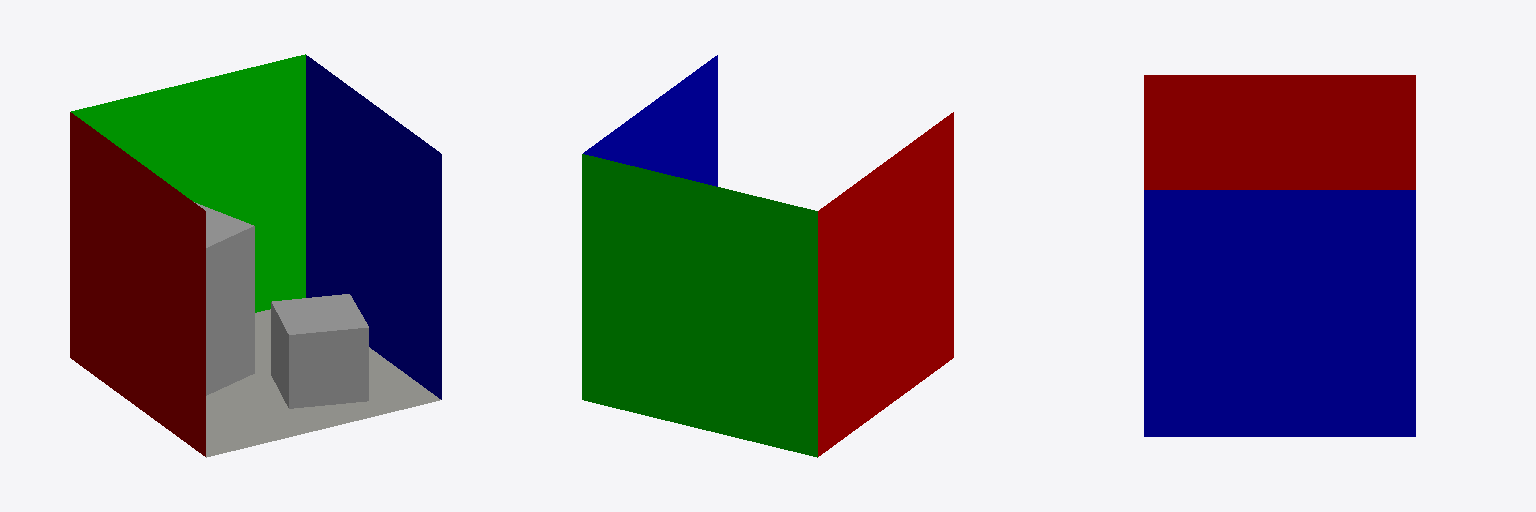
Rendered from CornellBox-Normal.obj.
The picture shows the model from 3 angles: view 1: azimuth 30°, elevation 25°; view 2: azimuth 150°, elevation 25°; view 3: azimuth 270°, elevation 25°; orthographic projection.
Visible parts, largest first — view 1: Enclosure_Enclosure_Cube.001, ShortBox_leftWall, TallBox_shortBox; view 2: Enclosure_Enclosure_Cube.001; view 3: Enclosure_Enclosure_Cube.001.
Boxes of the visible parts, box(x1,y1,x2,y2) form: Enclosure_Enclosure_Cube.001: box(70, 54, 441, 457); ShortBox_leftWall: box(271, 294, 368, 408); TallBox_shortBox: box(194, 202, 254, 395); Enclosure_Enclosure_Cube.001: box(582, 55, 953, 457); Enclosure_Enclosure_Cube.001: box(1144, 75, 1415, 436).
Bounding box in the file's own units: 2 × 2 × 2.